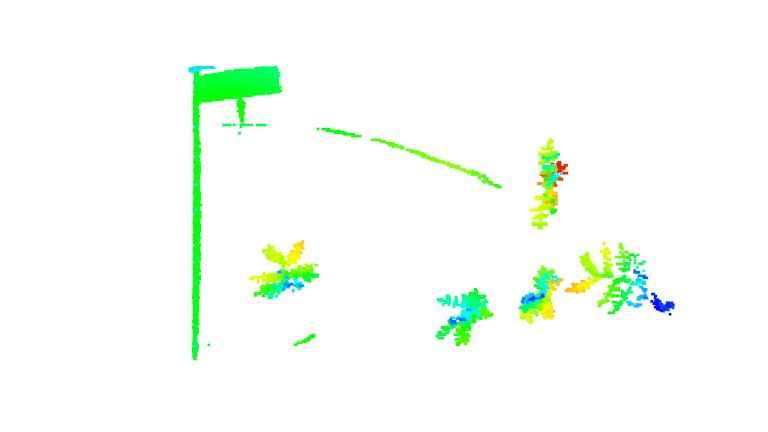chickpea: (574, 245, 654, 311), (250, 236, 321, 301), (528, 137, 569, 230), (432, 289, 493, 348), (513, 265, 562, 320)
